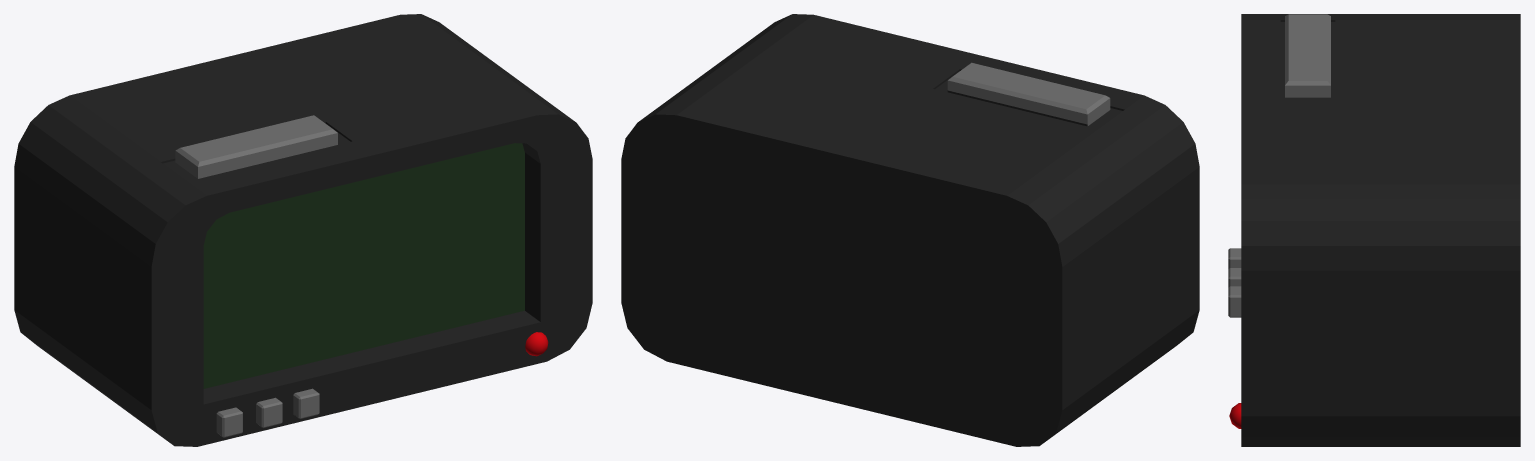
The model's file is SM_Clock.fbx.
The picture shows the model from 3 angles, left to right: view 1: azimuth 30°, elevation 25°; view 2: azimuth 150°, elevation 25°; view 3: azimuth 270°, elevation 25°; orthographic projection.
Visible parts, largest first — view 1: Cube, Cube.002, Cube.001, Cube.003; view 2: Cube; view 3: Cube, Cube.003.
Part boxes in pixels (box(x1,y1,x2,y2)): Cube: box(14, 14, 592, 446); Cube.002: box(256, 397, 282, 427); Cube.001: box(216, 407, 242, 437); Cube.003: box(293, 388, 319, 418); Cube: box(621, 14, 1199, 446); Cube: box(1241, 14, 1520, 446); Cube.003: box(1228, 286, 1241, 317).
Size of the model in its own units: 371 by 211 by 209.
